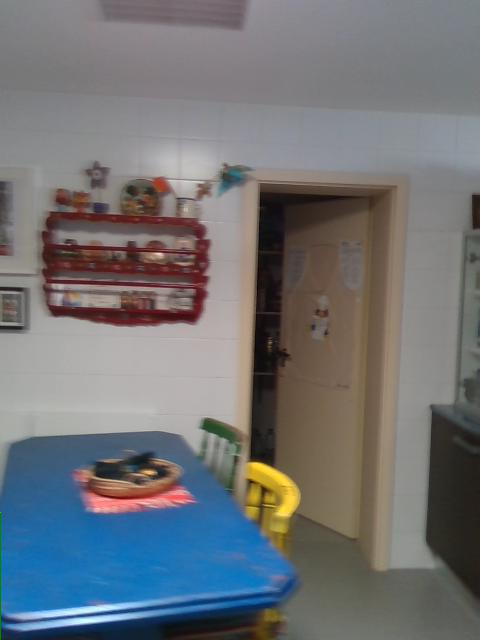semi_door: (233, 164, 411, 574)
